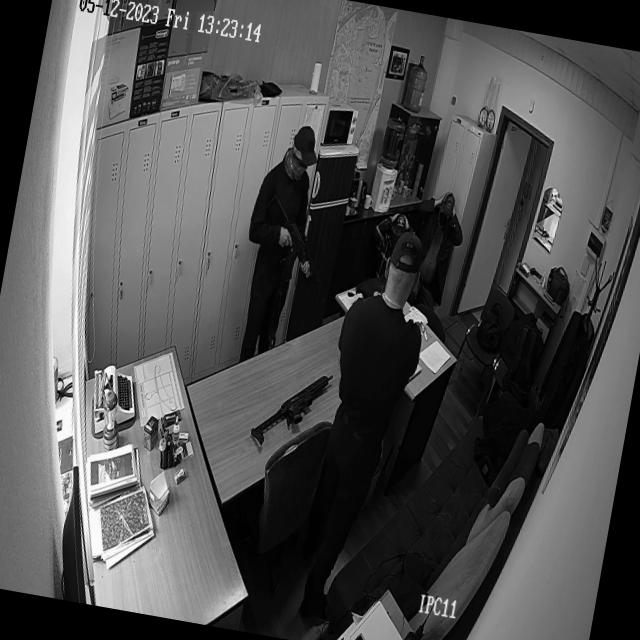gun: (242, 339, 342, 470), (255, 185, 336, 298)
person: (423, 178, 474, 242), (382, 210, 414, 250)
person with a gun: (294, 204, 448, 590), (224, 120, 324, 356)
